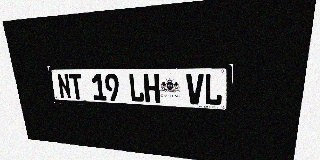1: (91, 74, 107, 101)
9: (104, 74, 120, 101)
H: (143, 74, 160, 103)
L: (204, 74, 223, 106), (128, 74, 145, 102)
N: (56, 74, 72, 99)
T: (68, 74, 84, 100)
V: (186, 74, 204, 105)
